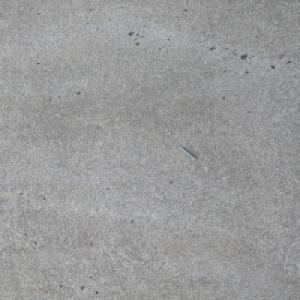Screw: (177, 145, 197, 160)
